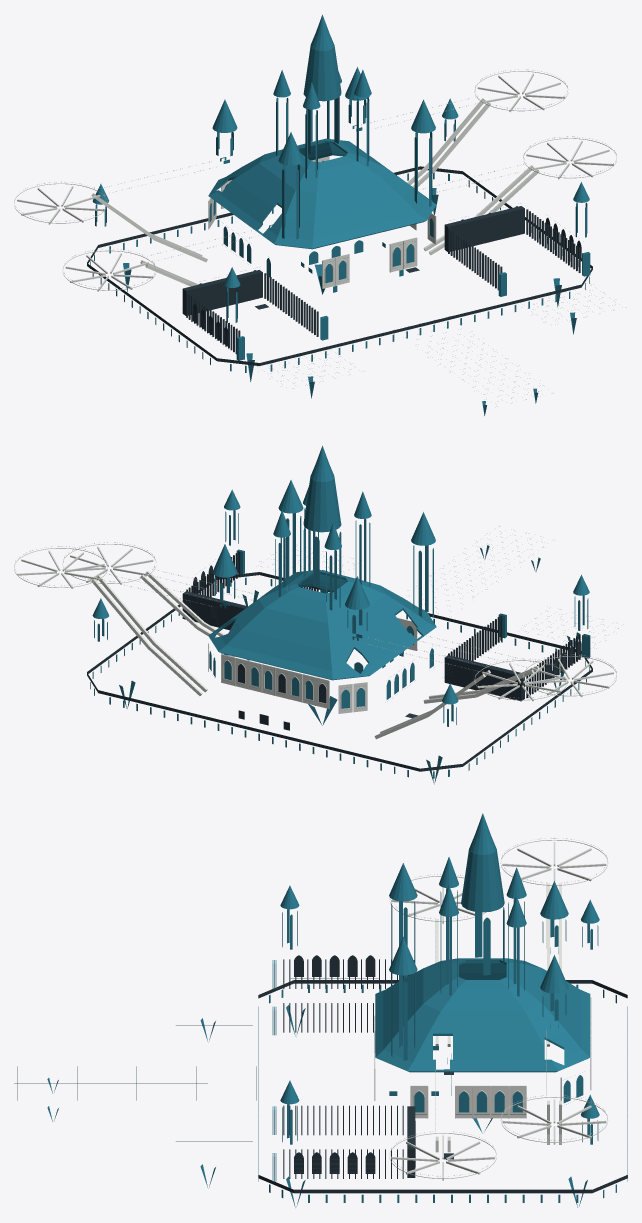
File: Spaceport-01.glb
3 renders of one model, top to bottom at view 1: azimuth 30°, elevation 25°; view 2: azimuth 150°, elevation 25°; view 3: azimuth 270°, elevation 25°, orthographic. The views are drawn at different scales.
Parts seen in each view (by area): view 1: NSP01.Native.1.1.Teal, NSP01.Native.1.2.Dark, NSP01.Native.1.0.Ivory; view 2: NSP01.Native.1.1.Teal, NSP01.Native.1.0.Ivory, NSP01.Native.1.2.Dark; view 3: NSP01.Native.1.1.Teal, NSP01.Native.1.2.Dark, NSP01.Native.1.0.Ivory.
Boxes of the visible parts, x1,y1,x2,y2 form: NSP01.Native.1.1.Teal: (90,14,590,415); NSP01.Native.1.2.Dark: (87,166,592,399); NSP01.Native.1.0.Ivory: (14,69,616,291); NSP01.Native.1.1.Teal: (90,445,590,784); NSP01.Native.1.0.Ivory: (14,542,616,739); NSP01.Native.1.2.Dark: (87,547,618,771); NSP01.Native.1.1.Teal: (47,813,627,1207); NSP01.Native.1.2.Dark: (14,955,627,1193); NSP01.Native.1.0.Ivory: (374,837,608,1180).
Bounding box in the file's own units: 720 × 356 × 617.
